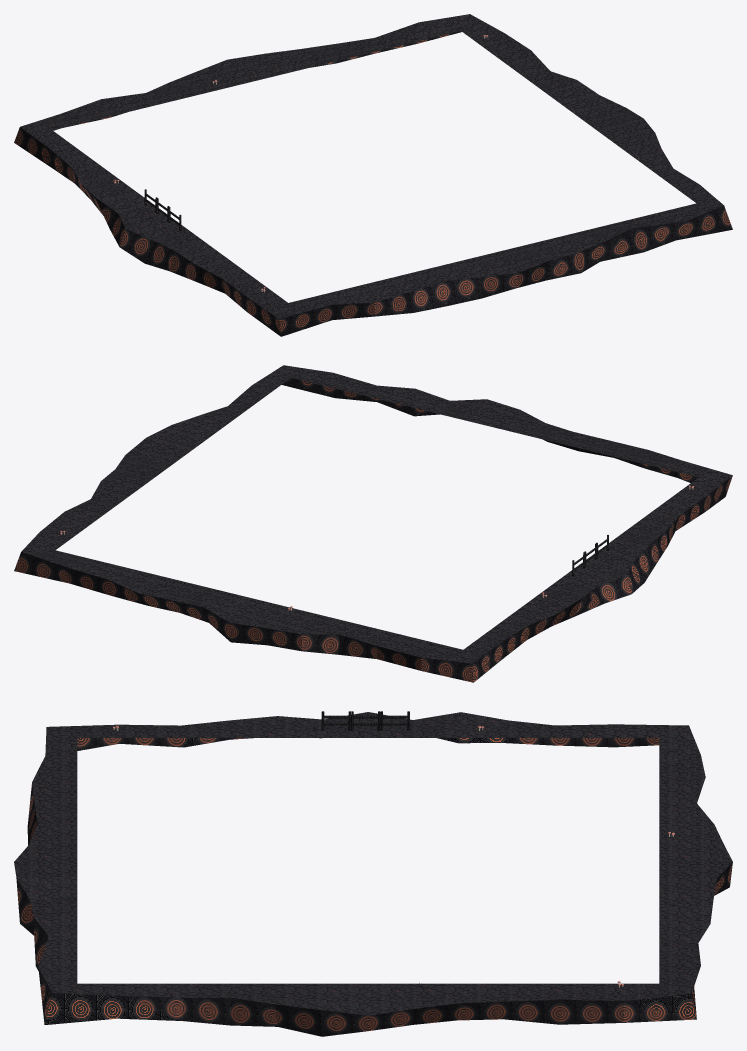
Rendered from entorno_18.glb.
3 renders of one model, top to bottom at view 1: azimuth 30°, elevation 25°; view 2: azimuth 150°, elevation 25°; view 3: azimuth 270°, elevation 25°, orthographic. The views are drawn at different scales.
Visible parts, largest first — view 1: vulcao_entorno_18; view 2: vulcao_entorno_18; view 3: vulcao_entorno_18.
Part boxes in pixels (<box>): vulcao_entorno_18: <box>14,14,732,336</box>; vulcao_entorno_18: <box>14,365,732,682</box>; vulcao_entorno_18: <box>14,711,732,1036</box>.
Size of the model in its own units: 22.6 by 1.69 by 22.49.
Materials: 7 (5 with a texture image).
